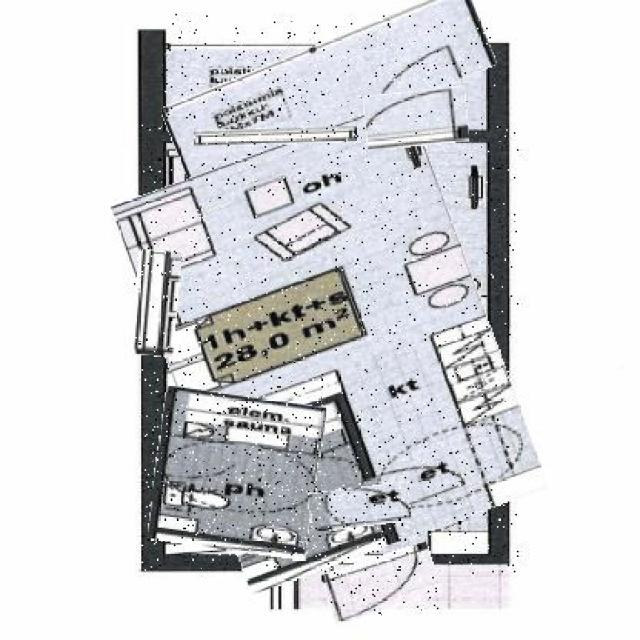door: (324, 549, 438, 617), (365, 88, 469, 148), (311, 485, 411, 529)
window: (134, 249, 178, 357), (194, 128, 357, 146)
zone: (142, 121, 518, 574), (162, 14, 496, 157), (154, 392, 323, 556)
